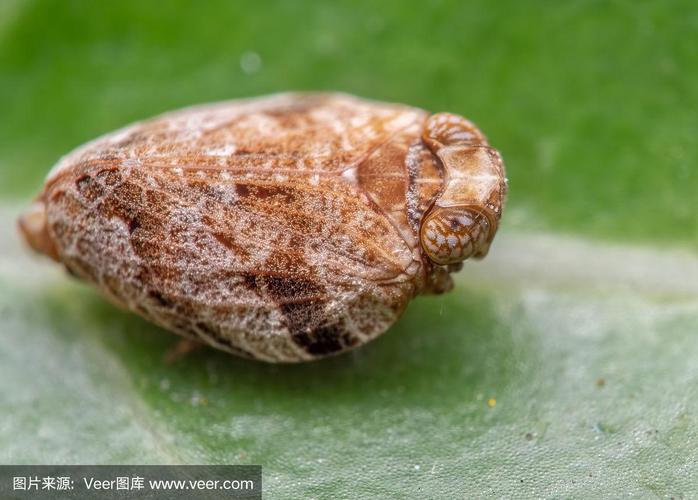Delphacidae: (14, 88, 508, 364)
